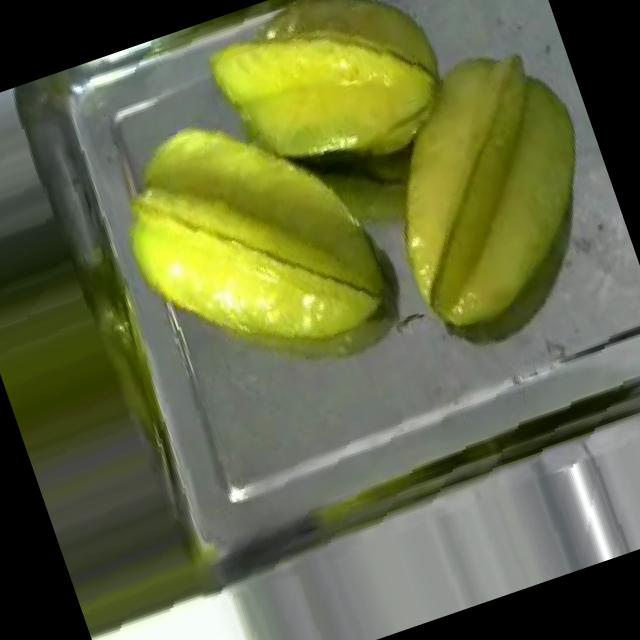fruit: (82, 61, 420, 408), (331, 13, 640, 372), (174, 0, 485, 222)
